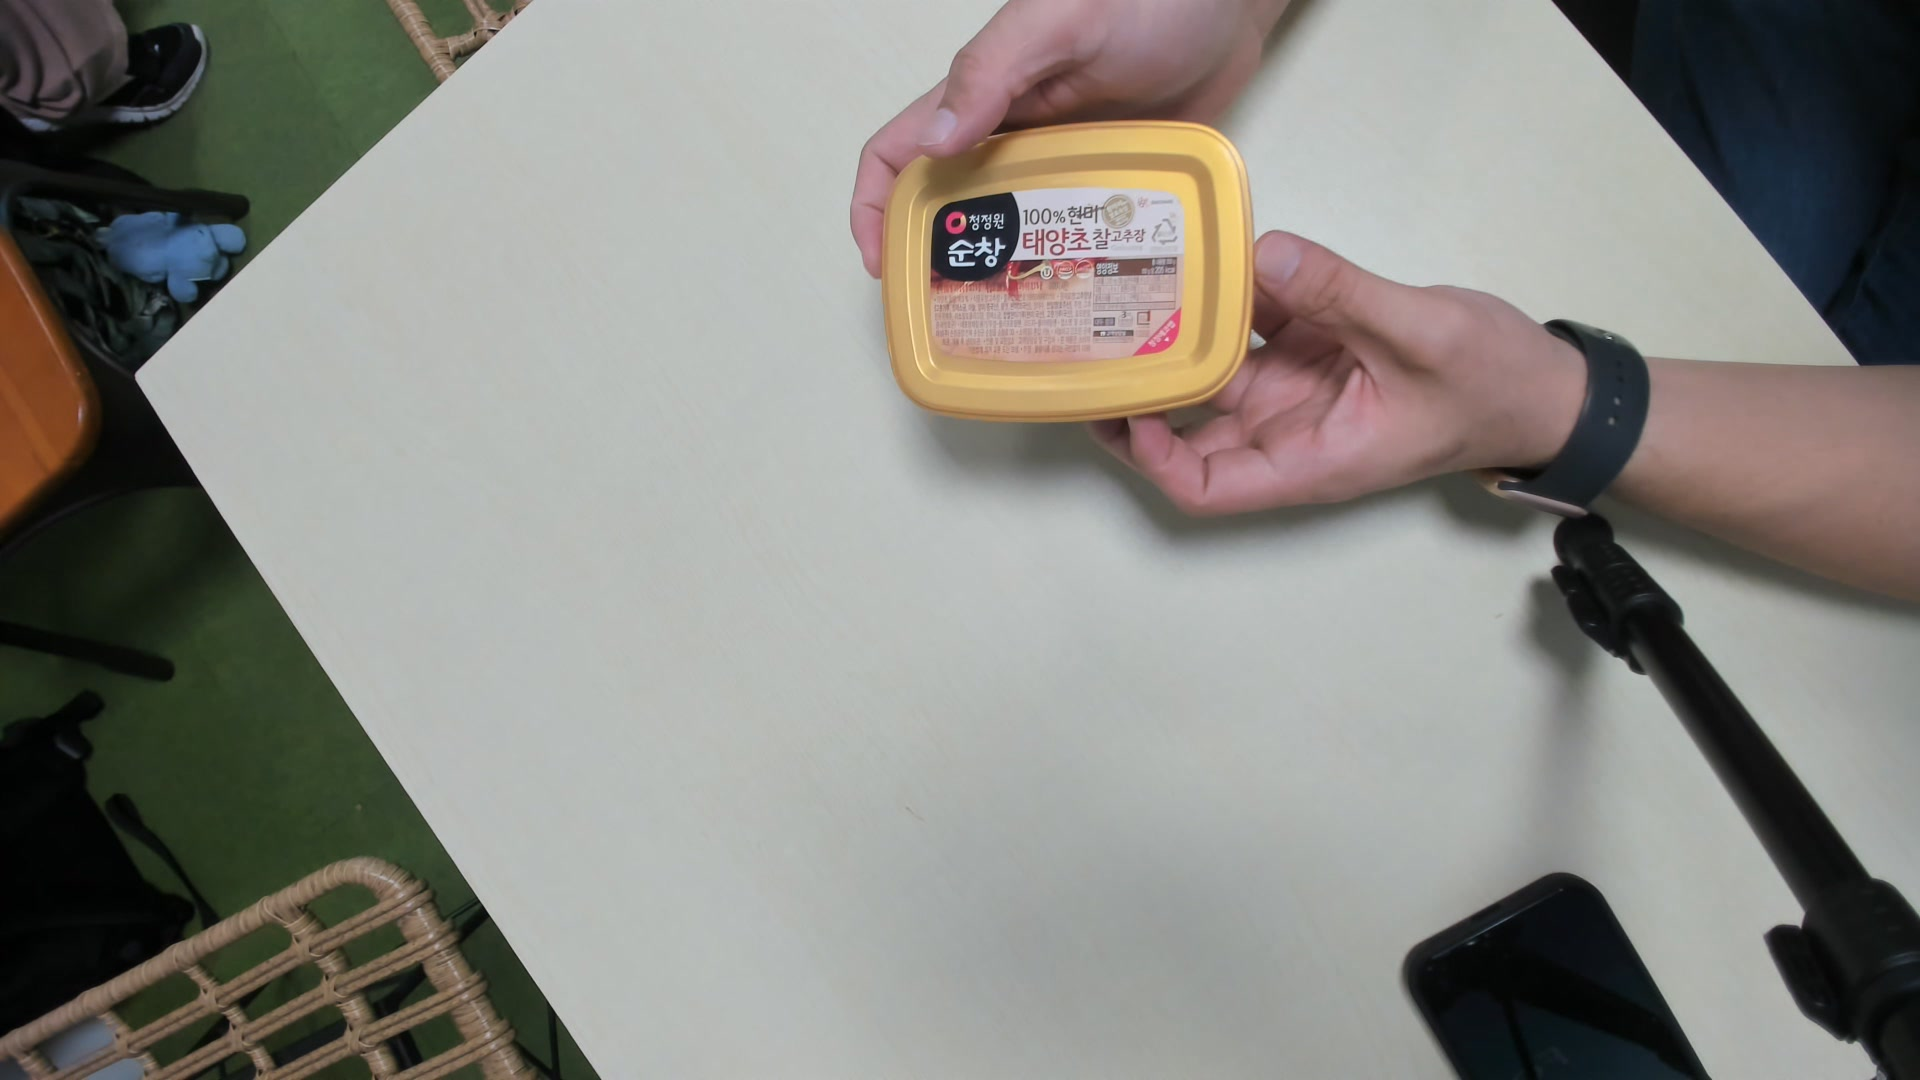OtherSauceDressing_200-299g_NonHalal_NonHealthy: (880, 121, 1246, 414)
